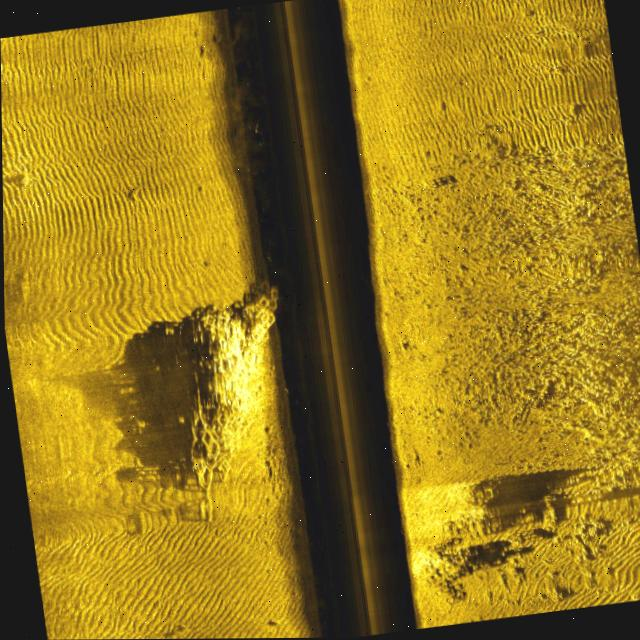artificial reef: (144, 261, 290, 507)
